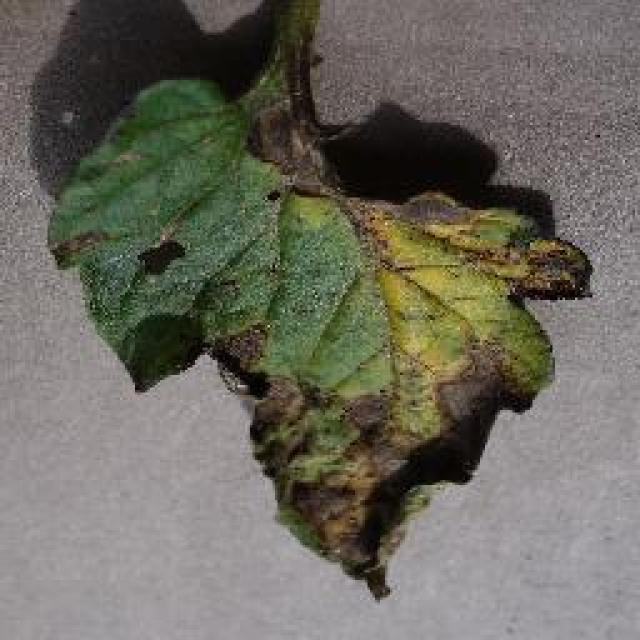Tomato___Early_blight: (48, 0, 599, 607)
